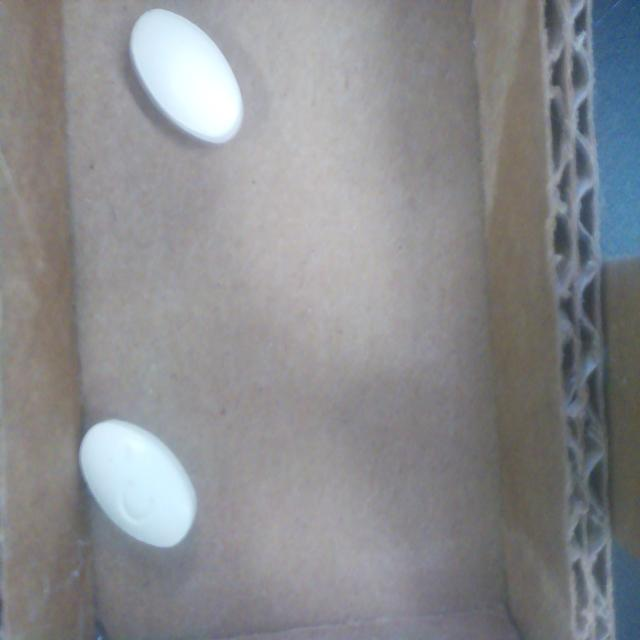pill: (130, 8, 244, 146), (80, 419, 197, 548)
